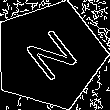N_SE: (17, 23, 82, 87)
